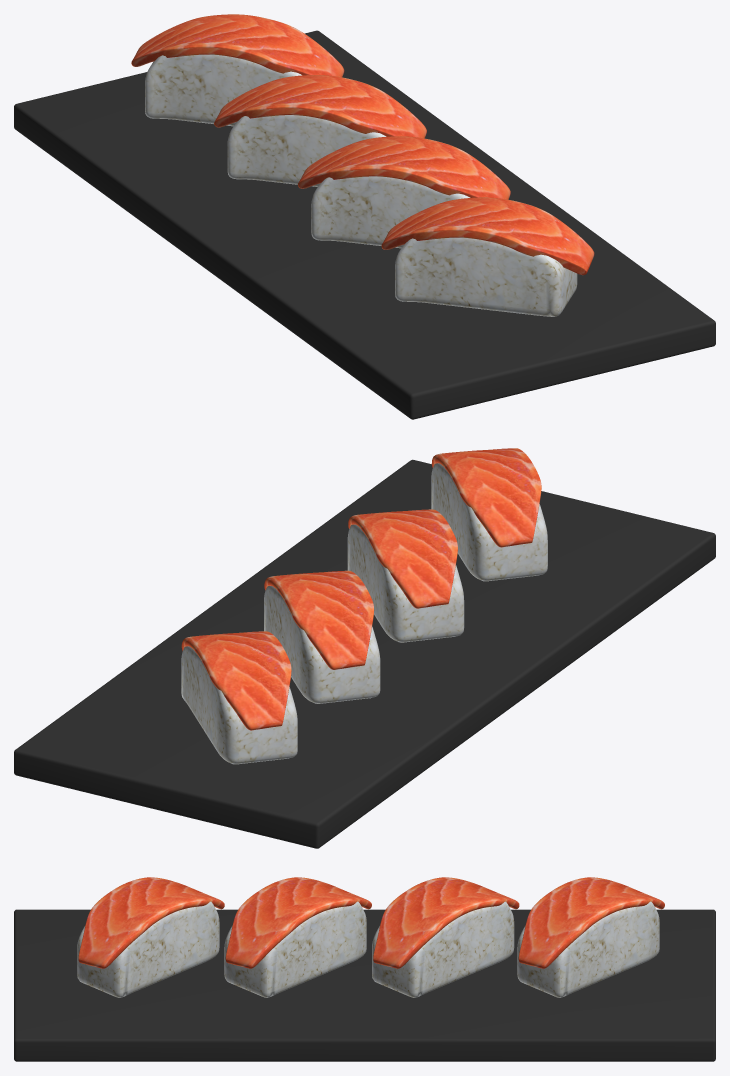
File: asset.gltf
The picture shows the model from 3 angles, top to bottom: view 1: azimuth 30°, elevation 25°; view 2: azimuth 150°, elevation 25°; view 3: azimuth 270°, elevation 25°; orthographic projection. The views are drawn at different scales.
Parts seen in each view (by area): view 1: Box001, Plane007, Plane008, Plane004, Plane006, Plane002, Plane003, Plane005, Plane001; view 2: Box001, Plane006, Plane002, Plane008, Plane004, Plane001, Plane005, Plane007, Plane003; view 3: Box001, Plane003, Plane001, Plane005, Plane007, Plane004, Plane008, Plane002, Plane006.
Part boxes in pixels (x1=…): Box001: x1=14, y1=30, x2=715, y2=419; Plane007: x1=395, y1=237, x2=577, y2=316; Plane008: x1=381, y1=197, x2=594, y2=275; Plane004: x1=214, y1=75, x2=426, y2=138; Plane006: x1=298, y1=136, x2=510, y2=199; Plane002: x1=131, y1=14, x2=344, y2=77; Plane003: x1=227, y1=115, x2=386, y2=186; Plane005: x1=311, y1=176, x2=470, y2=248; Plane001: x1=145, y1=54, x2=301, y2=126; Box001: x1=14, y1=459, x2=715, y2=848; Plane006: x1=348, y1=509, x2=457, y2=608; Plane002: x1=181, y1=631, x2=291, y2=730; Plane008: x1=431, y1=448, x2=541, y2=547; Plane004: x1=264, y1=570, x2=374, y2=669; Plane001: x1=181, y1=646, x2=297, y2=764; Plane005: x1=347, y1=524, x2=464, y2=642; Plane007: x1=431, y1=463, x2=547, y2=581; Plane003: x1=264, y1=586, x2=380, y2=703; Box001: x1=14, y1=909, x2=715, y2=1061; Plane003: x1=372, y1=901, x2=514, y2=997; Plane001: x1=517, y1=901, x2=659, y2=997; Plane005: x1=224, y1=901, x2=366, y2=997; Plane007: x1=77, y1=901, x2=219, y2=997; Plane004: x1=373, y1=877, x2=519, y2=968; Plane008: x1=78, y1=877, x2=224, y2=968; Plane002: x1=518, y1=877, x2=664, y2=968; Plane006: x1=225, y1=877, x2=371, y2=968.
Bounding box in the file's own units: 141 × 51.15 × 318.
3 materials, 2 textured.
